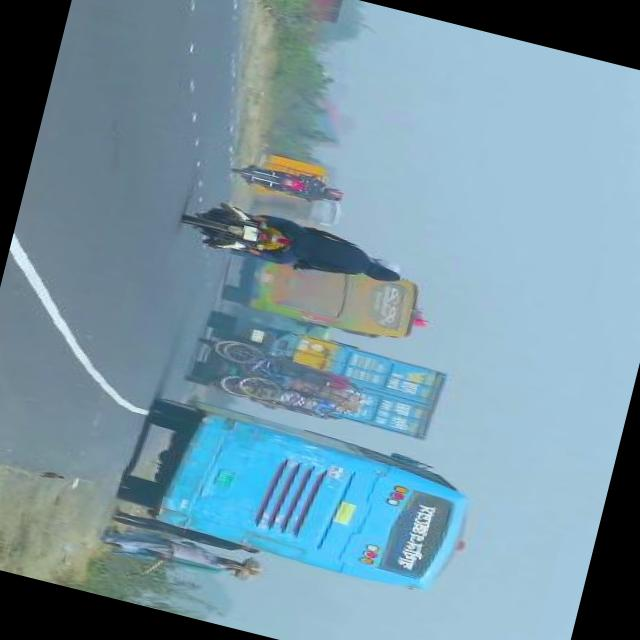bus: (120, 394, 473, 598), (226, 254, 422, 347)
motorcycle: (185, 198, 409, 296), (233, 158, 354, 212)
truck: (198, 311, 446, 442)
